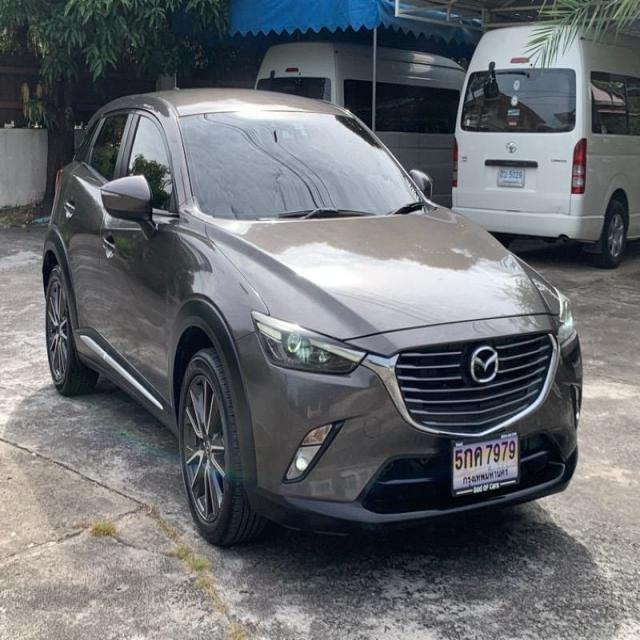license_plate: (448, 428, 524, 496), (494, 160, 527, 192)
